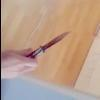melee: (0, 30, 70, 80)
